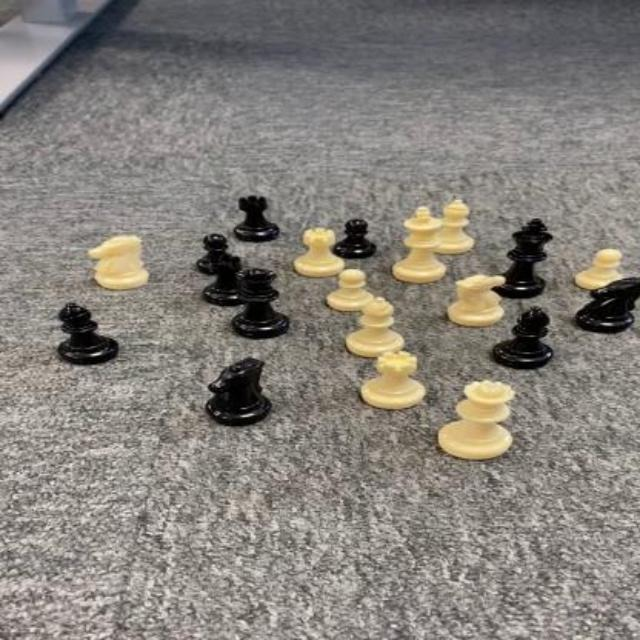black-bishop: (50, 301, 119, 367), (491, 306, 563, 369)
black-king: (496, 218, 554, 298)
black-knight: (198, 359, 284, 425), (576, 277, 640, 332)
black-pawn: (193, 233, 243, 276), (331, 219, 378, 259)
black-queen: (229, 267, 290, 339)
black-rook: (228, 195, 281, 243), (200, 256, 252, 304)
white-bishop: (343, 296, 404, 357), (426, 200, 478, 254)
white-king: (391, 206, 446, 284)
white-knight: (86, 235, 149, 291), (446, 274, 507, 327)
white-pawn: (324, 267, 379, 313), (575, 247, 627, 287)
white-queen: (438, 378, 518, 459)
white-rook: (359, 351, 431, 409), (288, 226, 349, 282)
